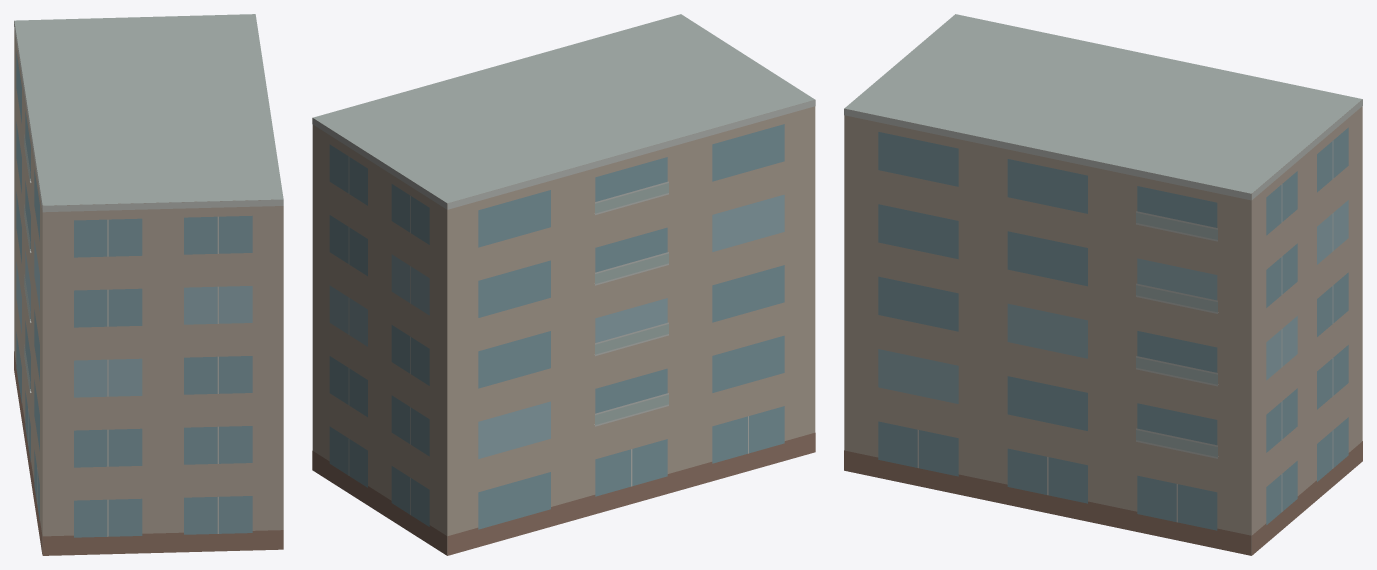
File: survey-upis-32885366.glb
3 views of the same model, side by side, from view 1: azimuth 30°, elevation 25°; view 2: azimuth 150°, elevation 25°; view 3: azimuth 270°, elevation 25° (orthographic). The views are drawn at different scales.
Parts seen in each view (by area): view 1: survey-upis-32885366.tmp; view 2: survey-upis-32885366.tmp; view 3: survey-upis-32885366.tmp.
Part boxes in pixels (x1=…): survey-upis-32885366.tmp: x1=14, y1=14, x2=283, y2=555; survey-upis-32885366.tmp: x1=312, y1=14, x2=815, y2=555; survey-upis-32885366.tmp: x1=844, y1=14, x2=1362, y2=555.
Bounding box in the file's own units: 14.06 × 13.2 × 17.14.
